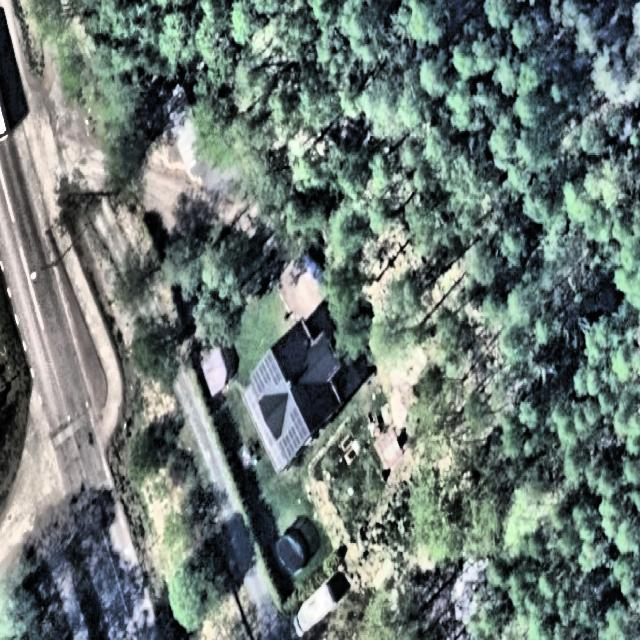roof_pv: (278, 405, 312, 465), (252, 348, 282, 397)
